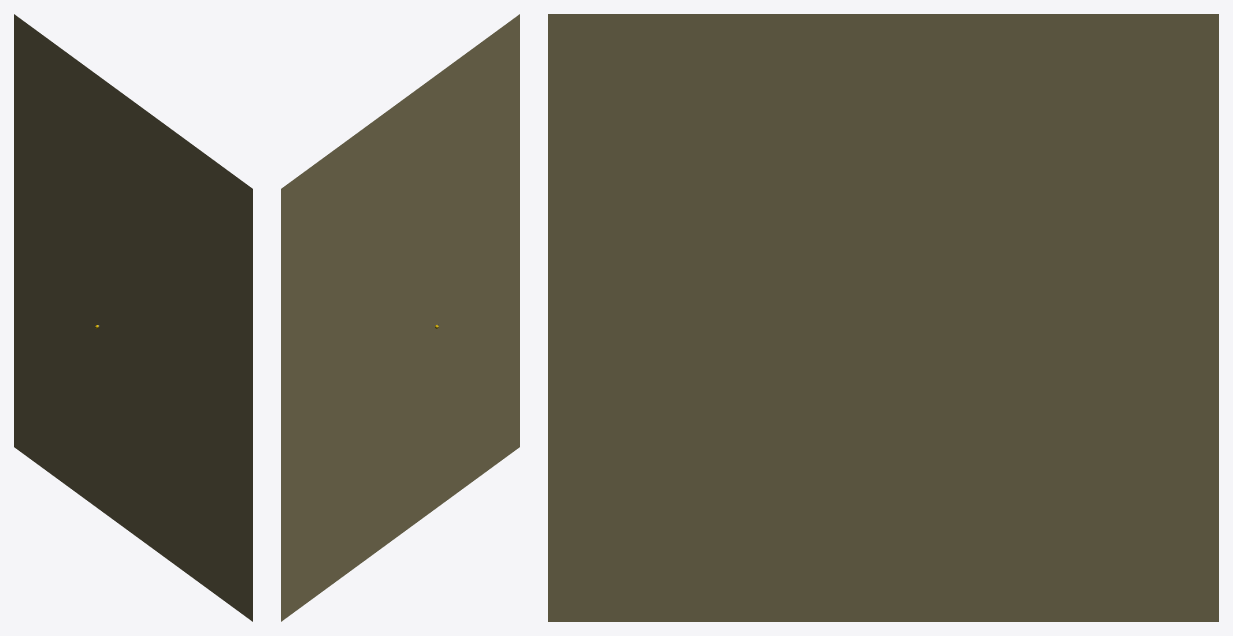
File: bee.glb
3 views of the same model, side by side, from view 1: azimuth 30°, elevation 25°; view 2: azimuth 150°, elevation 25°; view 3: azimuth 270°, elevation 25° (orthographic). The views are drawn at different scales.
Parts seen in each view (by area): view 1: Bg; view 2: Bg; view 3: Bg.
Part boxes in pixels (left/top/right/bottom): Bg: left=14, top=14, right=252, bottom=621; Bg: left=281, top=14, right=519, bottom=621; Bg: left=548, top=14, right=1218, bottom=621.
Size of the model in its own units: 22.5 by 245 by 245.
